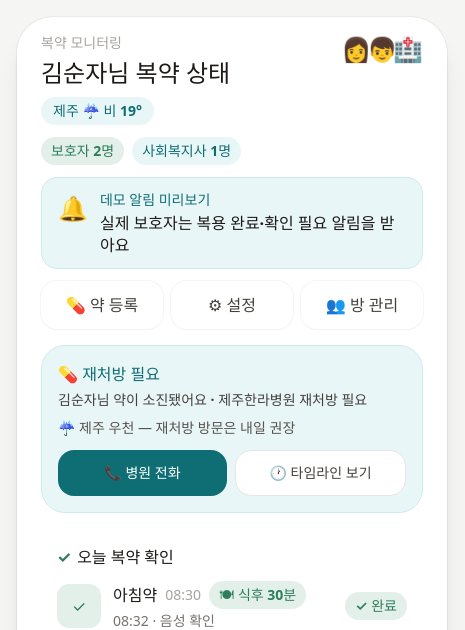
Test: caregiver lock-screen notification › opens the demo notification preview from the caregiver dashboard CTA
Expected: the text "실제 보호자는 복용 완료·확인 필요 알림을 받아요" is shown, [100,212,406,256]
What coordinates should you click on to do the following:
click the button "🔔 데모 알림 미리보기 실제 보호자는 복용 완료·확인 필요 알림을 받아요"
I would click on:
 (232, 223)
Its box is [41,177,423,269].
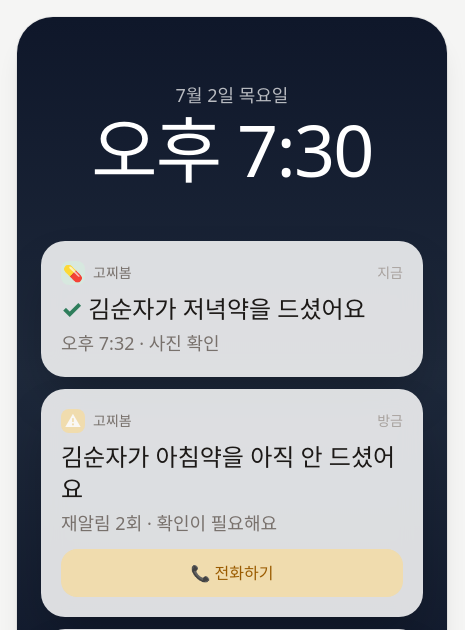
Now the text "저녁약을 드셨어요" is shown, box [61,293,403,325]
